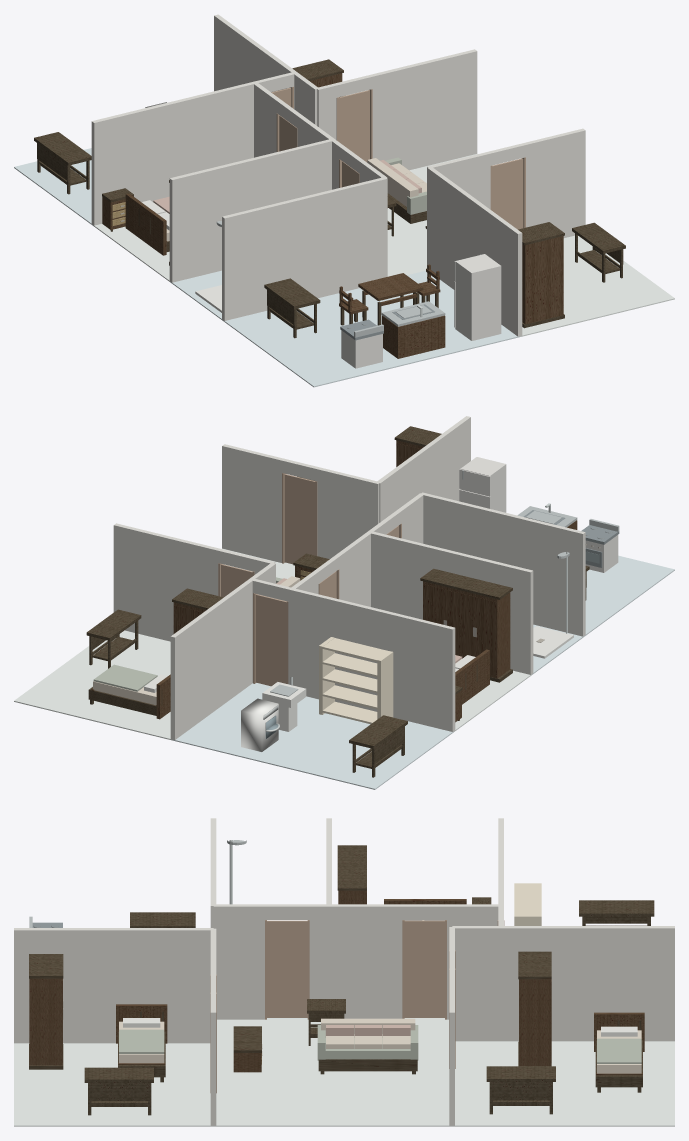
3 renders of one model, top to bottom at view 1: azimuth 30°, elevation 25°; view 2: azimuth 150°, elevation 25°; view 3: azimuth 270°, elevation 25°, orthographic. The views are drawn at different scales.
Visible parts, largest first — view 1: H27_WALL_07, H27_WALL_04, H27_WALL_12, H27_WALL_00, H27_FLOOR_07_COZINHA_+_REFEICOES, H27_WALL_08, H27_WALL_05, H27_FLOOR_02_QUARTO_02, H27_WALL_02, H27_FURN_19_fridge__05__gabinete, H27_FURN_07_wardrobe__06__corpo, H27_FLOOR_01_SALA_DE_ESTAR_A (+19 smaller); view 2: H27_WALL_04, H27_WALL_07, H27_FLOOR_03_LAVANDERIA_+_GUARDA, H27_WALL_02, H27_WALL_12, H27_WALL_00, H27_FLOOR_00_QUARTO_03_REVERSIVEL, H27_WALL_05, H27_WALL_08, H27_WALL_06, H27_FLOOR_07_COZINHA_+_REFEICOES, H27_DOOR_01_LEAF (+31 smaller); view 3: H27_WALL_02, H27_FLOOR_01_SALA_DE_ESTAR_A, H27_WALL_08, H27_FLOOR_00_QUARTO_03_REVERSIVEL, H27_FLOOR_02_QUARTO_02, H27_WALL_10, H27_WALL_11, H27_DOOR_03_LEAF, H27_DOOR_04_LEAF, H27_FURN_07_wardrobe__06__corpo, H27_FURN_01_wardrobe__06__corpo, H27_FURN_14_wardrobe__00__topo (+32 smaller).
Part boxes in pixels (x1,y1,x2,y2): H27_WALL_07: [222, 177, 387, 320]; H27_WALL_04: [91, 81, 259, 225]; H27_WALL_12: [169, 139, 333, 282]; H27_WALL_00: [369, 49, 477, 170]; H27_FLOOR_07_COZINHA_+_REFEICOES: [223, 270, 519, 387]; H27_WALL_08: [427, 167, 522, 336]; H27_WALL_05: [522, 128, 585, 237]; H27_FLOOR_02_QUARTO_02: [520, 235, 674, 336]; H27_WALL_02: [214, 14, 317, 125]; H27_FURN_19_fridge__05__gabinete: [455, 254, 501, 340]; H27_FURN_07_wardrobe__06__corpo: [522, 236, 563, 324]; H27_FLOOR_01_SALA_DE_ESTAR_A: [387, 153, 492, 276]; H27_WALL_04: [287, 587, 455, 731]; H27_WALL_07: [421, 492, 585, 636]; H27_FLOOR_03_LAVANDERIA_+_GUARDA: [173, 683, 453, 789]; H27_WALL_02: [170, 563, 275, 739]; H27_WALL_12: [371, 531, 533, 674]; H27_WALL_00: [113, 523, 221, 641]; H27_FLOOR_00_QUARTO_03_REVERSIVEL: [14, 630, 172, 740]; H27_WALL_05: [222, 444, 284, 562]; H27_WALL_08: [376, 416, 470, 522]; H27_WALL_06: [316, 467, 379, 558]; H27_FLOOR_07_COZINHA_+_REFEICOES: [584, 555, 674, 636]; H27_DOOR_01_LEAF: [255, 594, 286, 686]; H27_WALL_02: [452, 926, 674, 1041]; H27_FLOOR_01_SALA_DE_ESTAR_A: [213, 1018, 452, 1126]; H27_WALL_08: [14, 928, 213, 1043]; H27_FLOOR_00_QUARTO_03_REVERSIVEL: [452, 1041, 674, 1126]; H27_FLOOR_02_QUARTO_02: [14, 1043, 213, 1126]; H27_WALL_10: [308, 904, 403, 1018]; H27_WALL_11: [213, 904, 265, 1019]; H27_DOOR_03_LEAF: [404, 920, 444, 1017]; H27_DOOR_04_LEAF: [267, 920, 307, 1017]; H27_FURN_07_wardrobe__06__corpo: [29, 978, 62, 1065]; H27_FURN_01_wardrobe__06__corpo: [519, 979, 551, 1065]; H27_FURN_14_wardrobe__00__topo: [337, 845, 366, 890].
Bounding box in the file's own units: 8.96 × 2.46 × 12.88.
22 materials, 3 textured.
